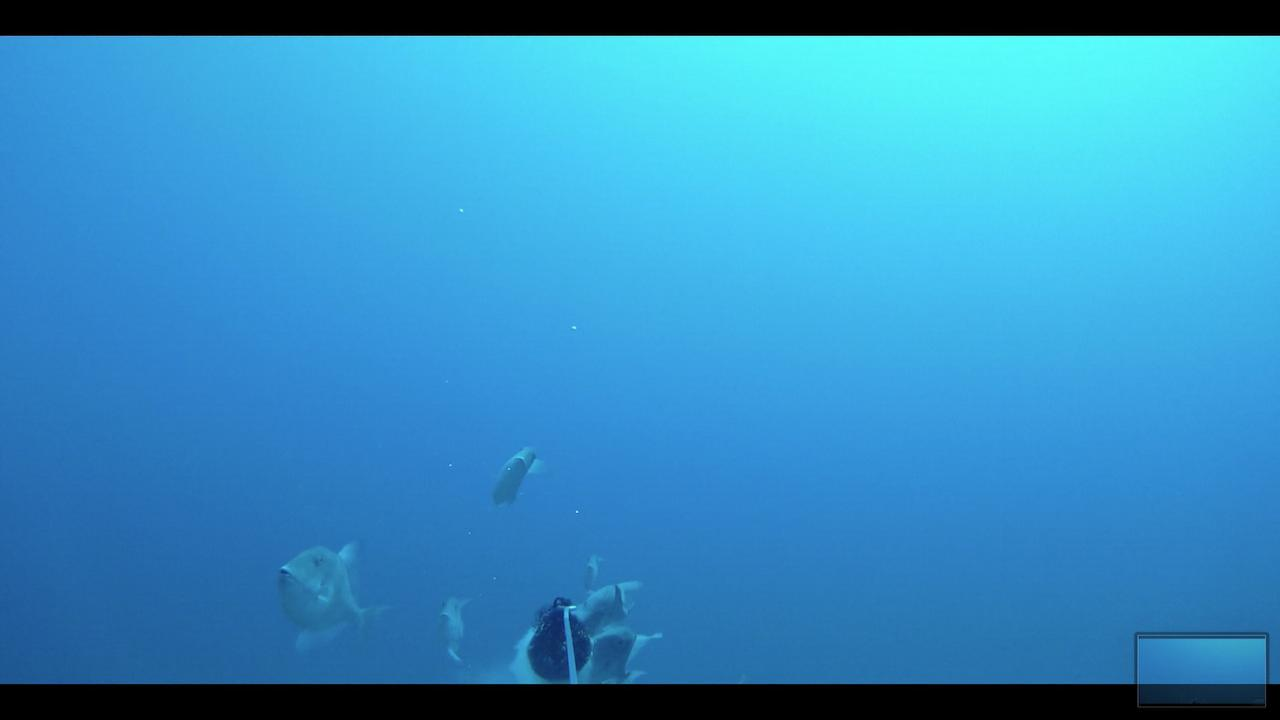balistes: (269, 532, 396, 659), (483, 436, 545, 518), (588, 618, 664, 682), (575, 577, 647, 640), (433, 588, 474, 667)
